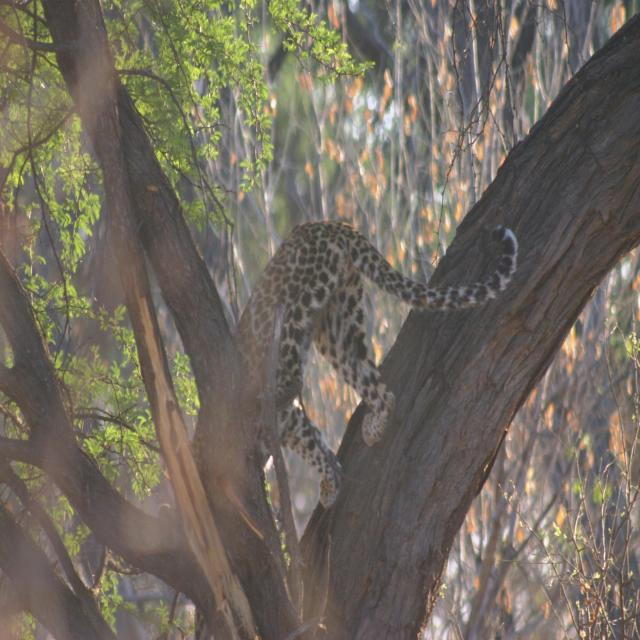Leopard: (135, 0, 520, 640)
